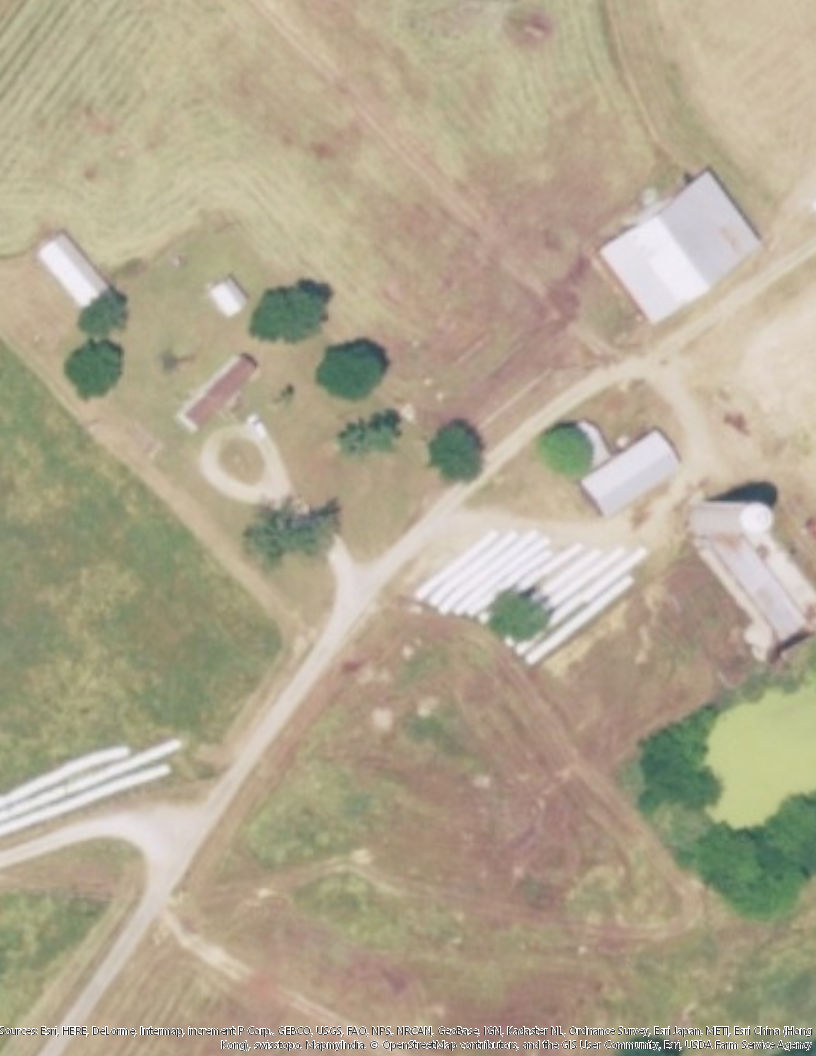cafo: (593, 163, 767, 330)
